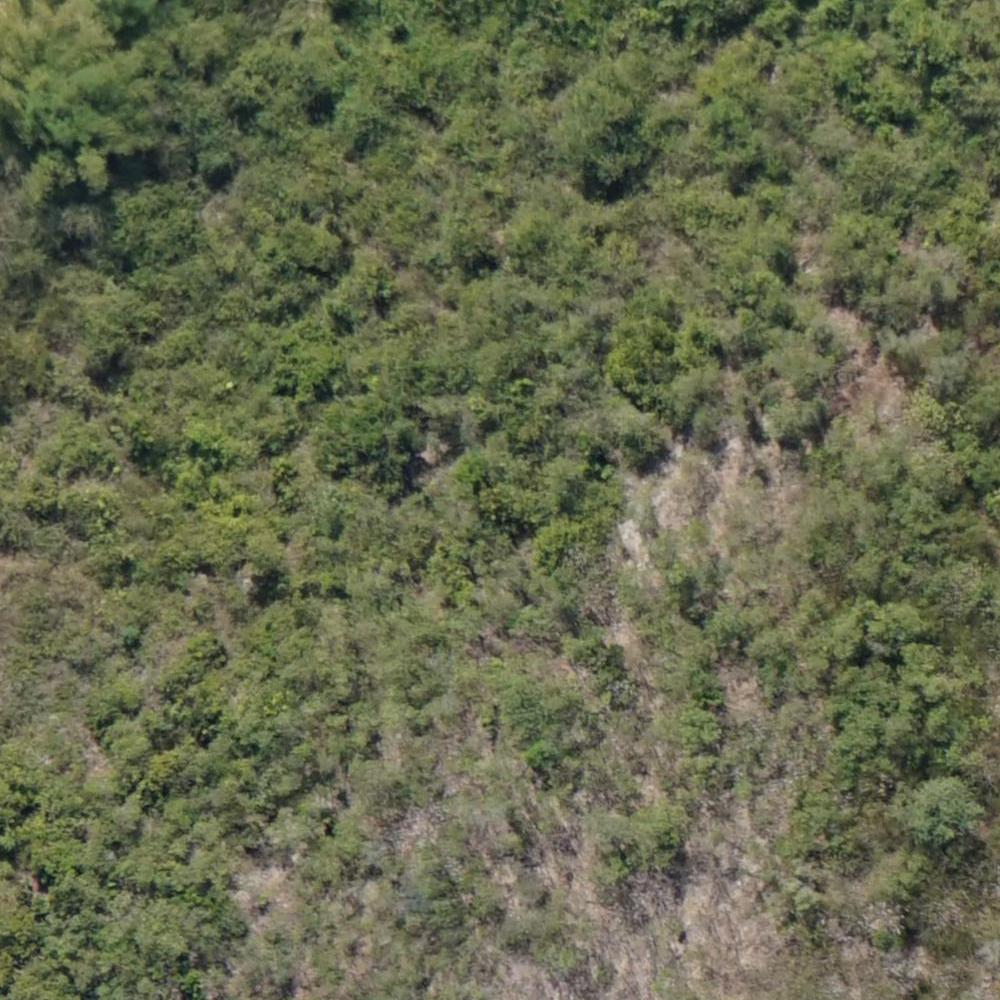tree: (567, 88, 654, 173), (911, 773, 982, 851), (276, 319, 343, 396), (830, 210, 891, 272), (513, 207, 572, 270), (280, 219, 337, 273), (872, 607, 924, 661), (920, 350, 969, 400), (674, 308, 721, 360), (442, 213, 489, 263), (833, 41, 879, 89), (769, 392, 813, 442), (747, 218, 794, 264), (680, 703, 724, 746), (104, 721, 142, 768), (446, 451, 494, 486), (706, 101, 747, 141), (685, 370, 724, 402), (196, 144, 231, 173), (252, 545, 280, 576)
